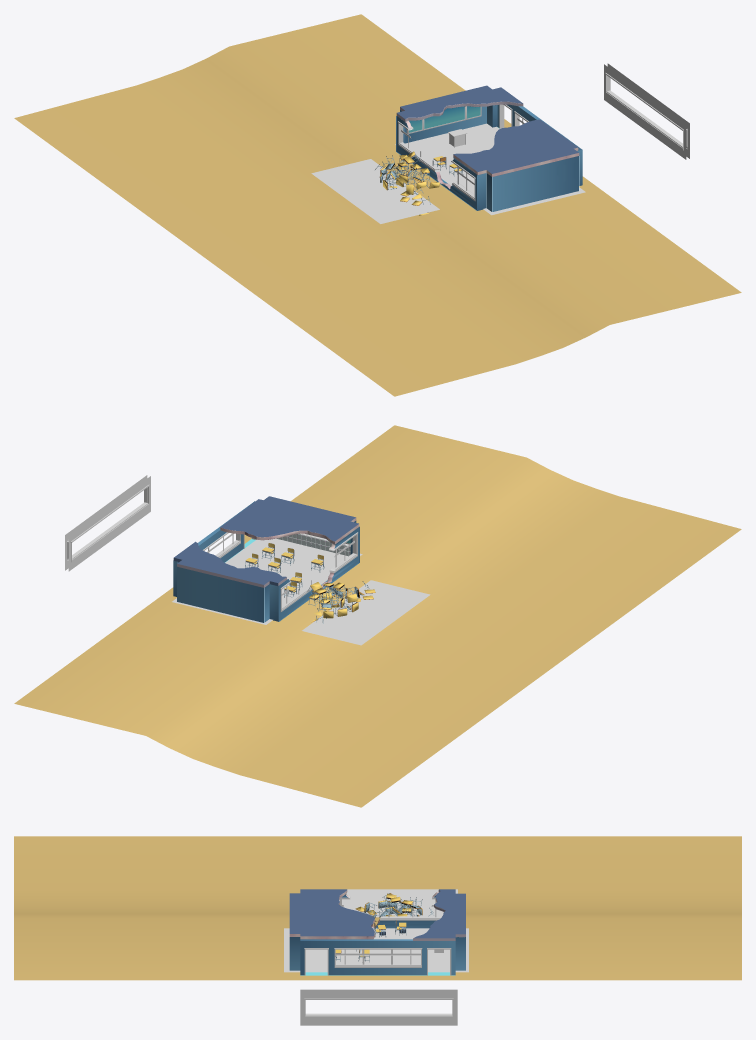
File: 教室_Cycles_uni.fbx
The picture shows the model from 3 angles, top to bottom: view 1: azimuth 30°, elevation 25°; view 2: azimuth 150°, elevation 25°; view 3: azimuth 270°, elevation 25°; orthographic projection. The views are drawn at different scales.
Visible parts, largest first — view 1: Plane.002, 底面.001, 天花板2, Plane, Plane.001, 墙备份, 天花板2.001, Cylinder.061, 左墙.001, 黑板前, 右墙; view 2: Plane.002, 天花板2, 底面.001, Plane, Plane.001, 墙备份, 天花板2.001, Cylinder.061, 左墙.001, 右墙; view 3: Plane.002, 墙备份, 天花板2, 右墙, Plane.001, Plane, 天花板2.001, Cylinder.061, 底面.001, 左墙.001, 窗杆右.
Boxes of the visible parts, <box> form: Plane.002: <box>14,14,741,396</box>; 底面.001: <box>396,105,582,211</box>; 天花板2: <box>453,119,579,176</box>; Plane: <box>311,159,439,223</box>; Plane.001: <box>395,123,585,215</box>; 墙备份: <box>604,63,689,159</box>; 天花板2.001: <box>396,85,523,121</box>; Cylinder.061: <box>375,151,439,215</box>; 左墙.001: <box>396,116,477,209</box>; 黑板前: <box>406,106,481,133</box>; 右墙: <box>497,104,581,150</box>; Plane.002: <box>14,425,741,807</box>; 天花板2: <box>220,496,359,544</box>; 底面.001: <box>173,521,359,622</box>; Plane: <box>302,580,430,645</box>; Plane.001: <box>172,538,362,624</box>; 墙备份: <box>65,475,150,571</box>; 天花板2.001: <box>173,541,286,587</box>; Cylinder.061: <box>307,581,375,623</box>; 左墙.001: <box>278,527,359,621</box>; 右墙: <box>177,501,256,562</box>; Plane.002: <box>14,836,741,980</box>; 墙备份: <box>300,989,457,1025</box>; 天花板2: <box>289,889,374,939</box>; 右墙: <box>300,939,455,975</box>; Plane.001: <box>284,928,468,972</box>; Plane: <box>339,889,457,917</box>; 天花板2.001: <box>413,889,465,940</box>; Cylinder.061: <box>355,893,433,921</box>; 底面.001: <box>289,937,465,970</box>; 左墙.001: <box>340,892,441,928</box>; 窗杆右: <box>335,949,420,964</box>.
Size of what is drawn, in the model's own units: 3032 by 379 by 4481.
